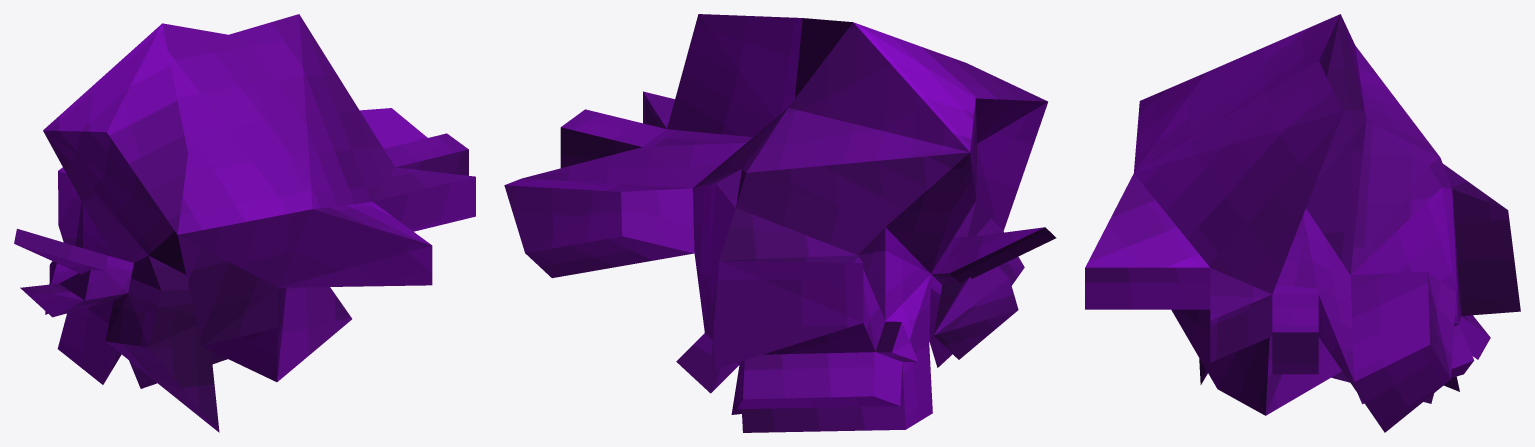
Rendered from asteroid_large1.fbx.
3 renders of one model, left to right at view 1: azimuth 30°, elevation 25°; view 2: azimuth 150°, elevation 25°; view 3: azimuth 270°, elevation 25°, orthographic. The views are drawn at different scales.
Visible parts, largest first — view 1: Cube; view 2: Cube; view 3: Cube.
Boxes of the visible parts, box(x1,y1,x2,y2) form: Cube: box(14, 14, 475, 432); Cube: box(504, 14, 1056, 432); Cube: box(1085, 14, 1520, 432).
Size of the model in its own units: 21.3 by 15.91 by 16.69.
1 material, 1 textured.
